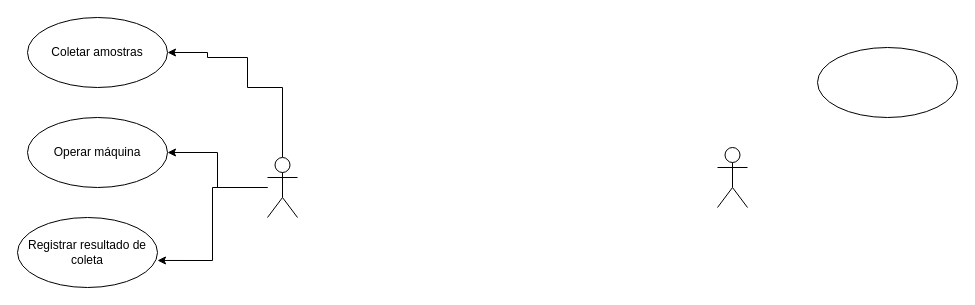
Some shapes in this 975 by 305 pixel diagram are drawn without their labels. Here are the shapes that lost their labels. From the top down, the centre of each, then its label:
the point at 282,187: Operator
the point at 732,177: Supervisor
